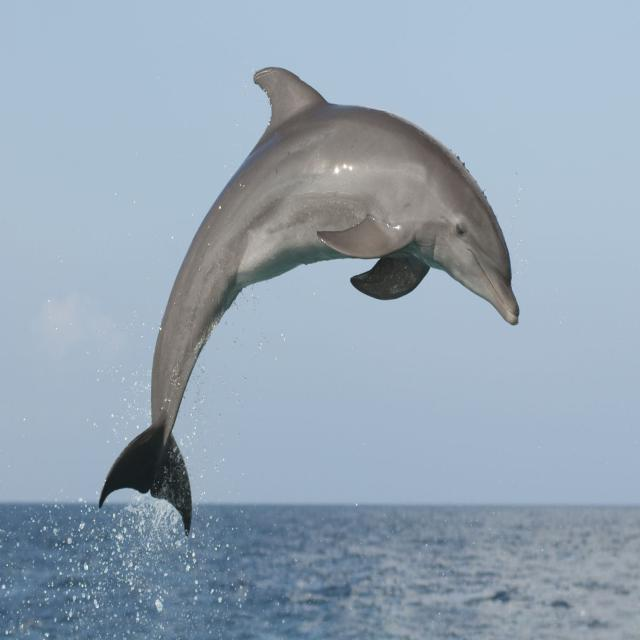dolphin: (100, 67, 519, 532)
